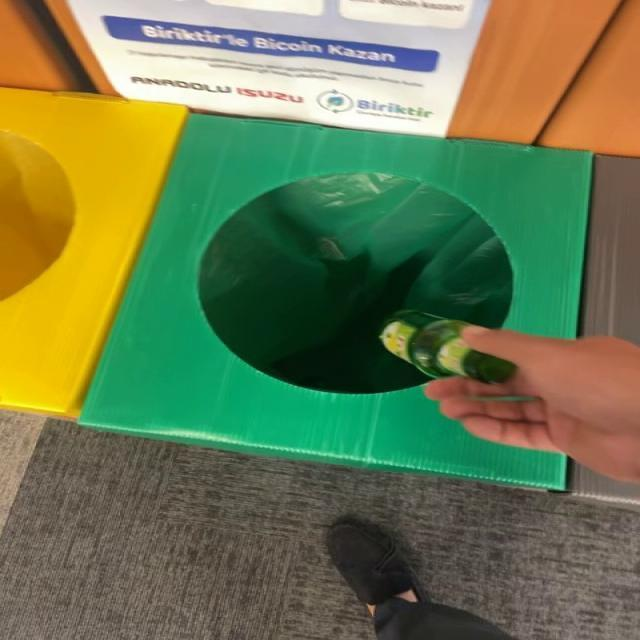Glass: (380, 310, 517, 384)
